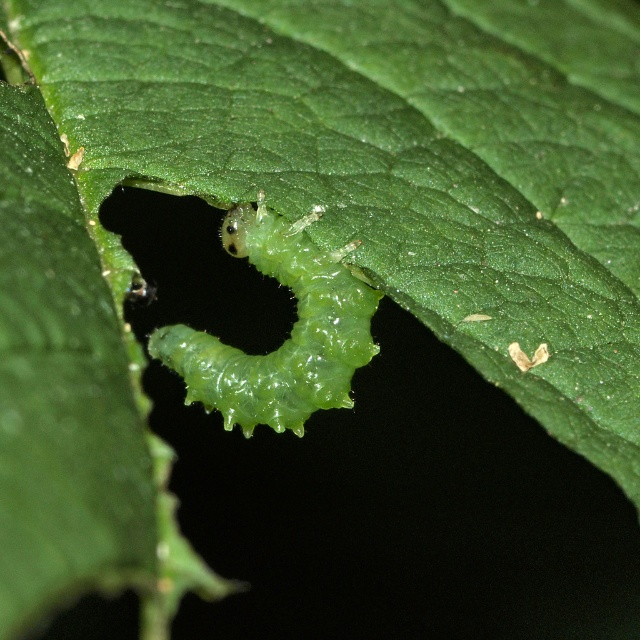Caterpillar: (155, 186, 390, 430)
